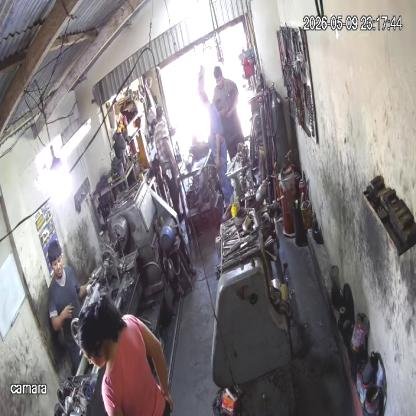sin_lentes: (48, 257, 63, 269)
